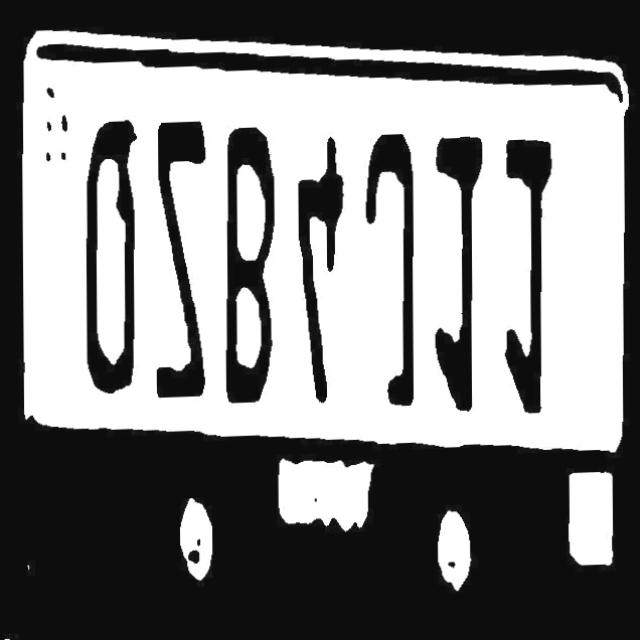1: (495, 142, 563, 428), (430, 133, 491, 425)
4: (290, 129, 348, 418)
b: (214, 114, 286, 414)
j: (358, 127, 428, 421)
q: (77, 114, 142, 406)
z: (144, 117, 216, 411)
